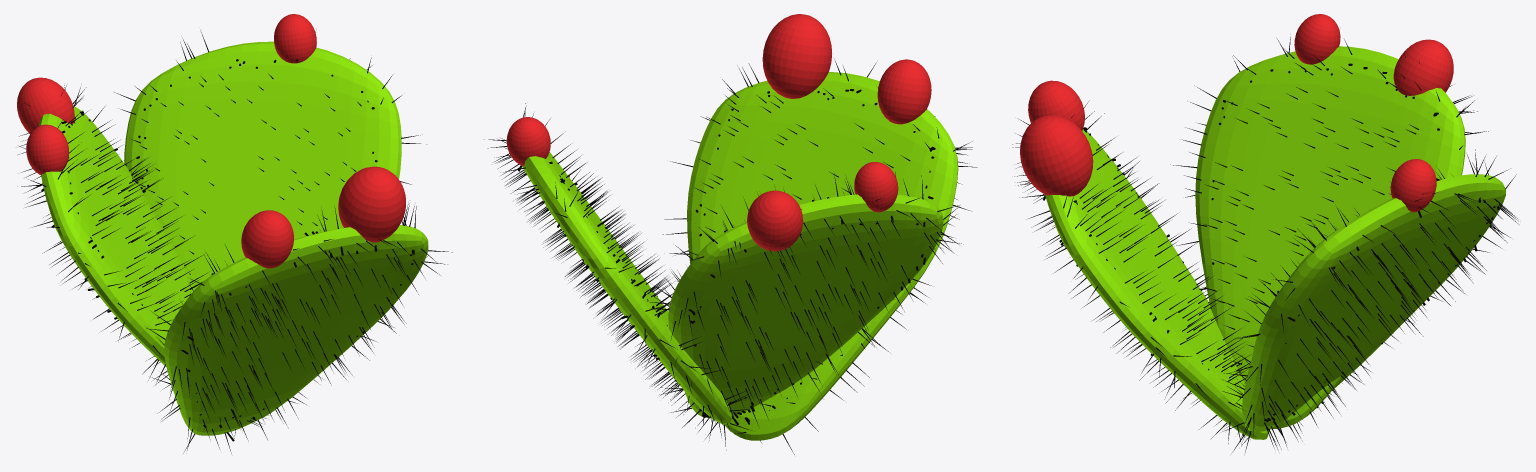
Rendered from Prickly pear.fbx.
3 views of the same model, side by side, from view 1: azimuth 30°, elevation 25°; view 2: azimuth 150°, elevation 25°; view 3: azimuth 270°, elevation 25° (orthographic). The views are drawn at different scales.
Parts seen in each view (by area): view 1: Plane.002, Sphere.001, Sphere, Sphere.004, Sphere.003, Sphere.002; view 2: Plane.002, Sphere.001, Sphere, Sphere.004, Sphere.003, Sphere.002; view 3: Plane.002, Sphere.001, Sphere.004, Sphere.002, Sphere, Sphere.003.
Part boxes in pixels (bbox=[...]): Plane.002: bbox=[39, 41, 428, 435]; Sphere.001: bbox=[338, 166, 405, 242]; Sphere: bbox=[241, 210, 293, 268]; Sphere.004: bbox=[17, 77, 74, 133]; Sphere.003: bbox=[26, 124, 69, 175]; Sphere.002: bbox=[274, 14, 316, 63]; Plane.002: bbox=[522, 72, 958, 440]; Sphere.001: bbox=[762, 14, 831, 98]; Sphere: bbox=[877, 59, 931, 124]; Sphere.004: bbox=[747, 190, 803, 251]; Sphere.003: bbox=[854, 162, 898, 212]; Sphere.002: bbox=[506, 117, 550, 166]; Plane.002: bbox=[1045, 46, 1505, 439]; Sphere.001: bbox=[1020, 115, 1093, 196]; Sphere.004: bbox=[1393, 39, 1453, 95]; Sphere.002: bbox=[1390, 159, 1436, 212]; Sphere: bbox=[1028, 80, 1084, 130]; Sphere.003: bbox=[1294, 14, 1340, 64].
Bounding box in the file's own units: 350 × 283 × 361.
